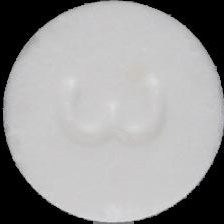0071-0417: (0, 0, 224, 224)
